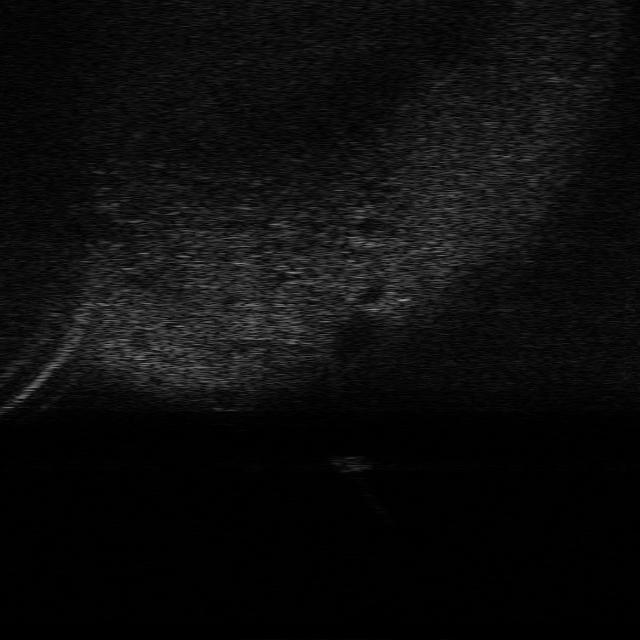cube: (325, 452, 376, 476)
